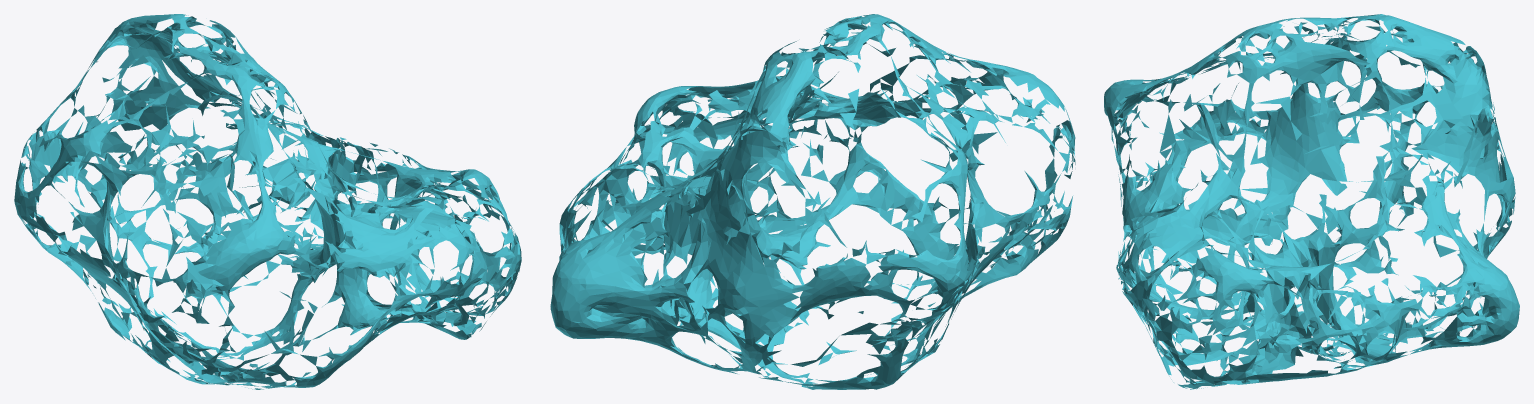
3 renders of one model, left to right at view 1: azimuth 30°, elevation 25°; view 2: azimuth 150°, elevation 25°; view 3: azimuth 270°, elevation 25°, orthographic. The views are drawn at different scales.
Visible parts, largest first — view 1: Renderer Node; view 2: Renderer Node; view 3: Renderer Node.
Boxes of the visible parts, x1,y1,x2,y2 form: Renderer Node: (14,14,521,389); Renderer Node: (550,14,1075,389); Renderer Node: (1104,14,1519,389).
Bounding box in the file's own units: 0.8887 × 0.7069 × 0.8389.
1 material, 1 textured.
